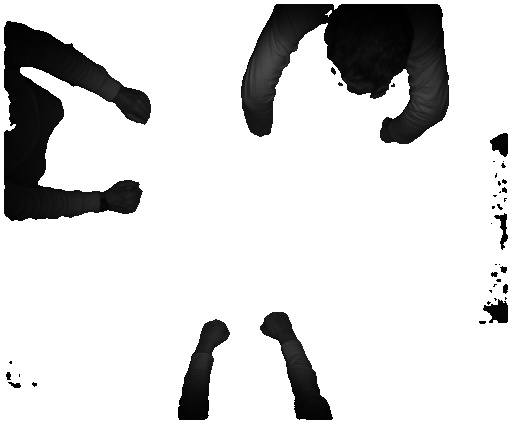fist: (106, 176, 143, 215), (256, 312, 296, 345), (120, 87, 151, 127), (196, 312, 231, 347)
